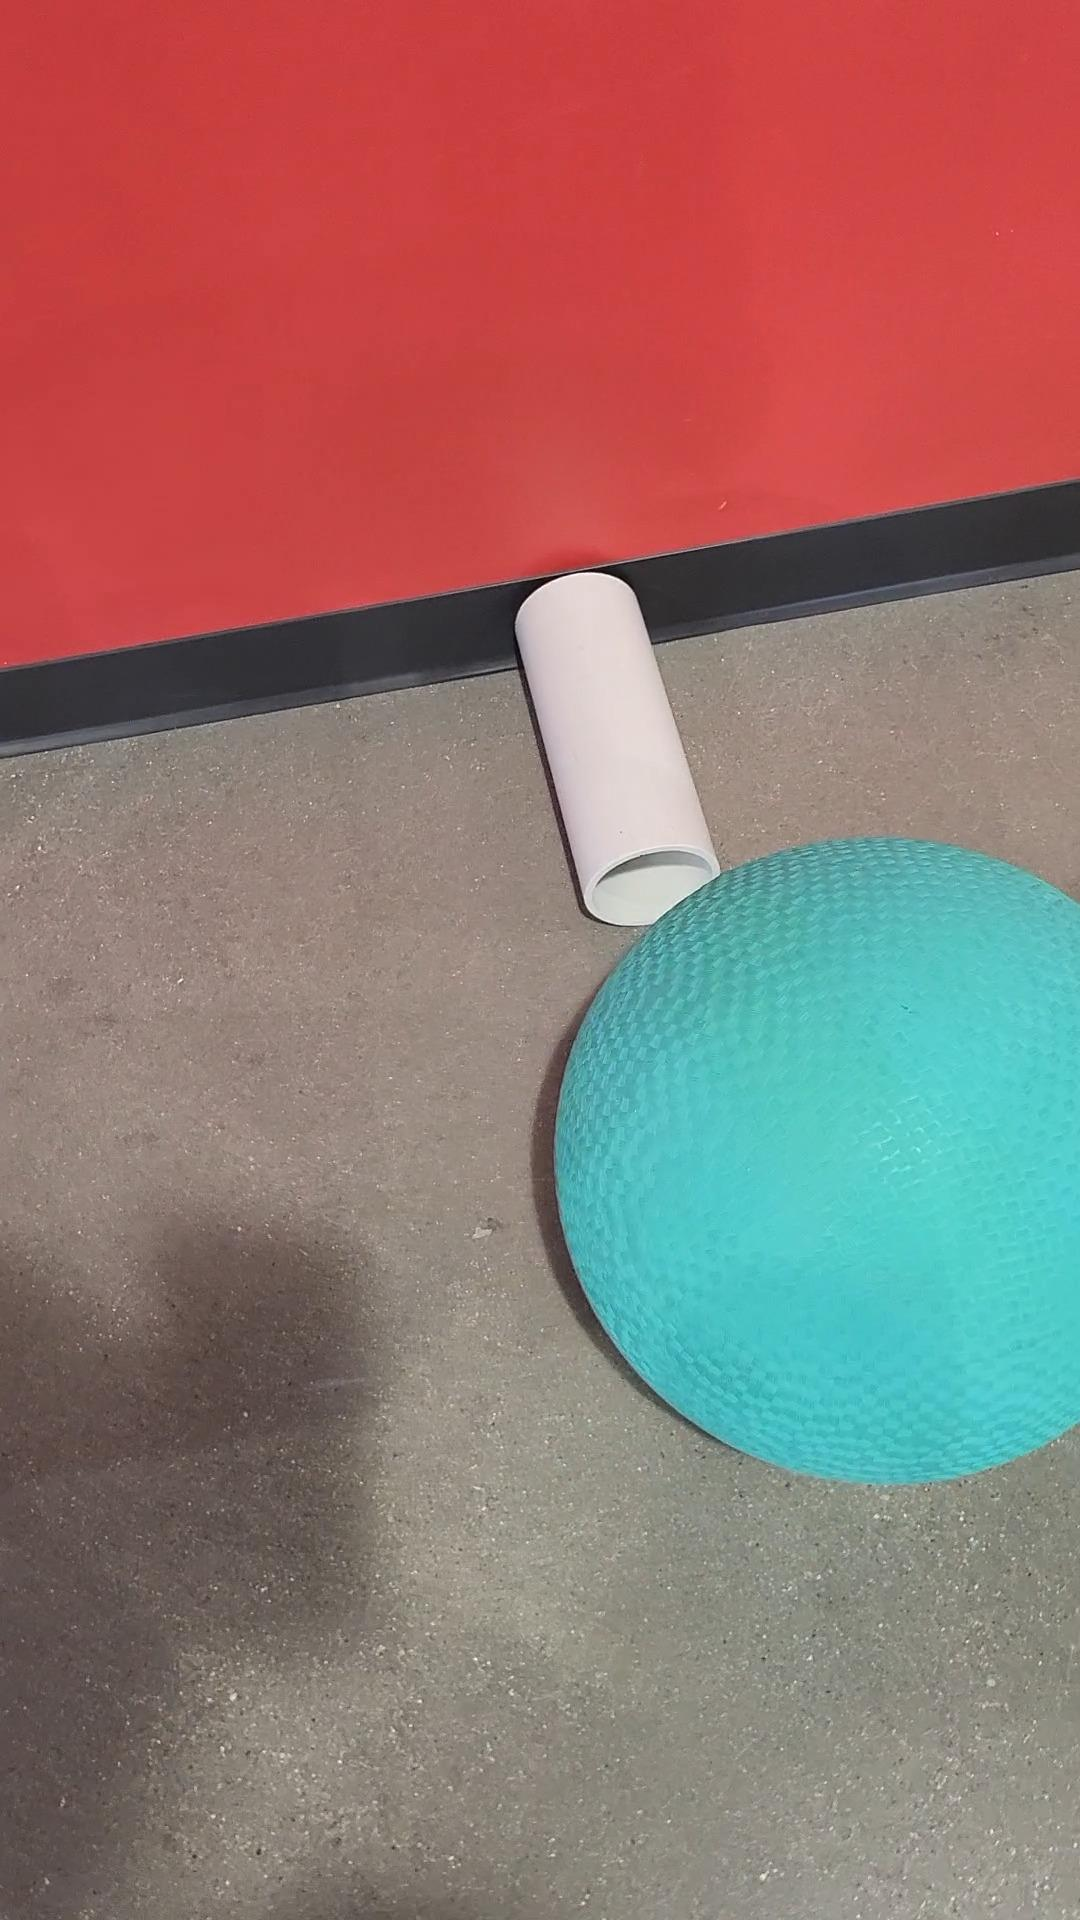algae: (551, 836, 1080, 1489)
coral: (481, 560, 735, 944)
